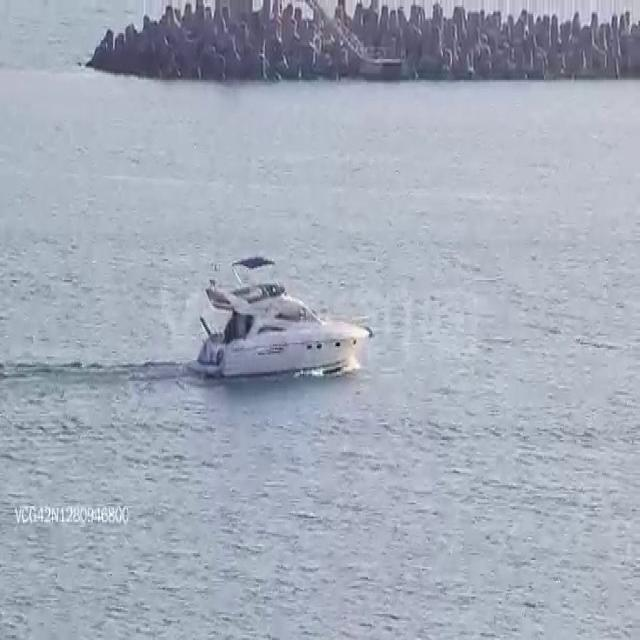houseboat: (186, 246, 372, 382)
